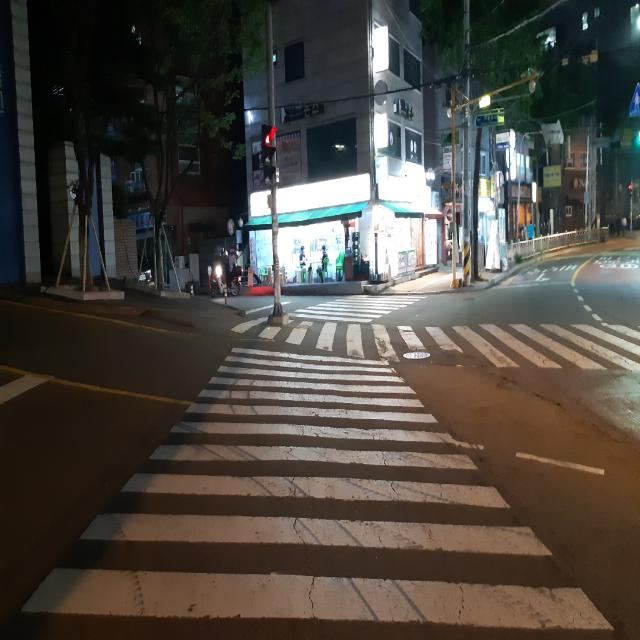빨간불: (263, 126, 274, 182)
횡단보도: (19, 293, 614, 631)
